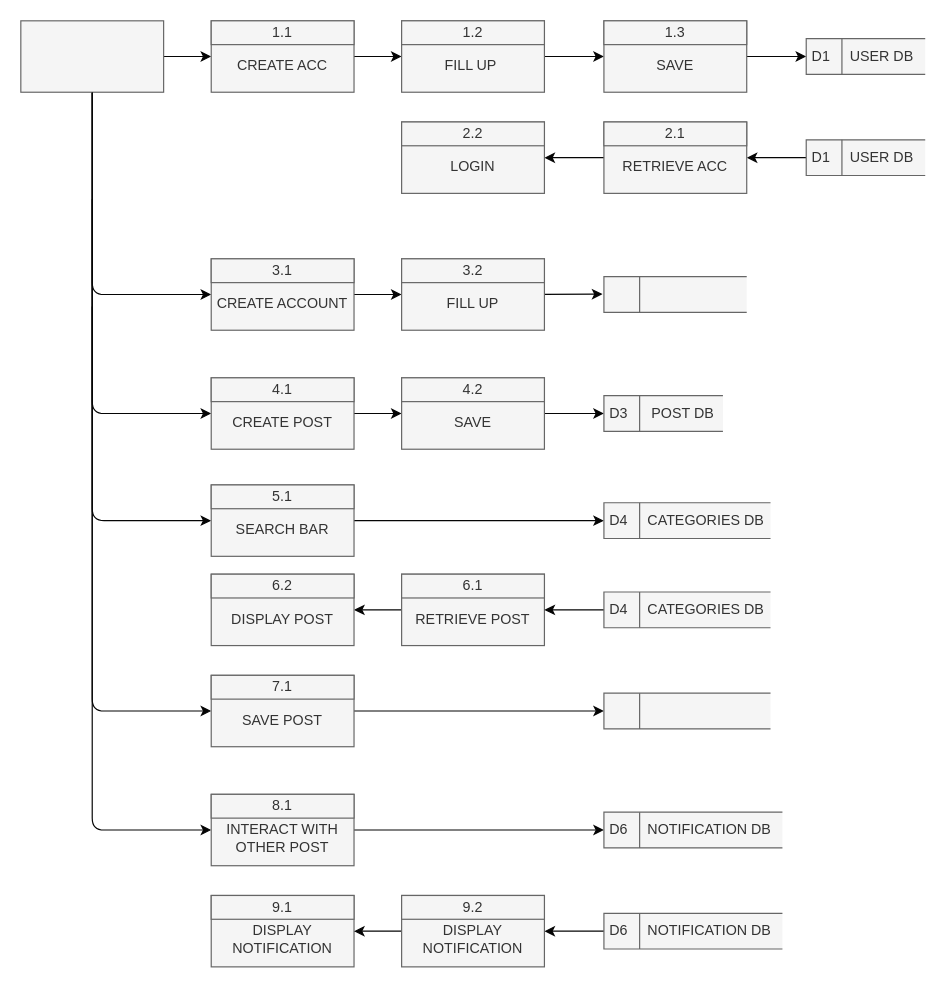
Some shapes in this 946 by 988 pixel diagram are drawn without their labels. The centre of each missing label's shape, as x and y in pixels:
"D2 SETTINGS DB" belongs at (x=675, y=293).
"D5 SAVE POST DB" belongs at (x=687, y=710).
"USER" belongs at (x=92, y=56).
